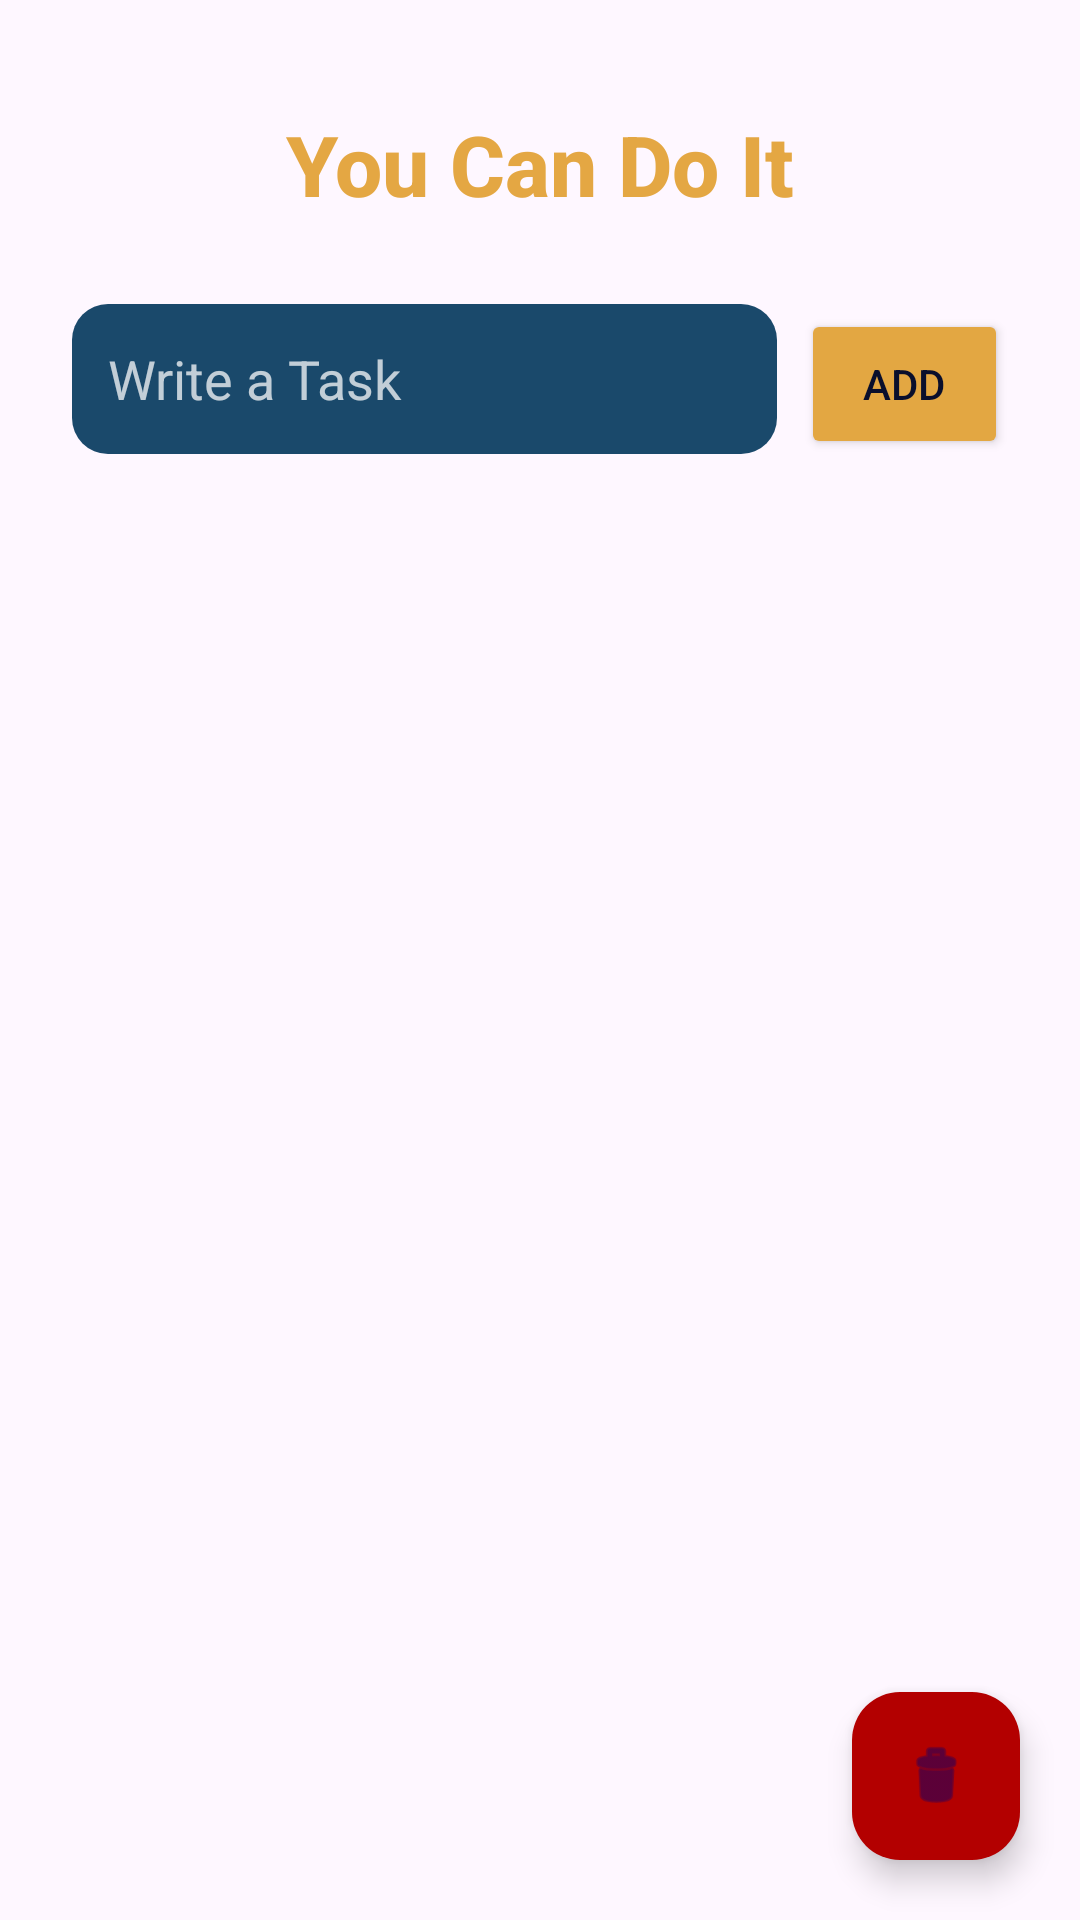

Named icons in this screenshot (1080px x 1920px) and their bounding boxes, rect(x1, y1, x2, y2):
Clear tasks: rect(852, 1692, 1020, 1860)
